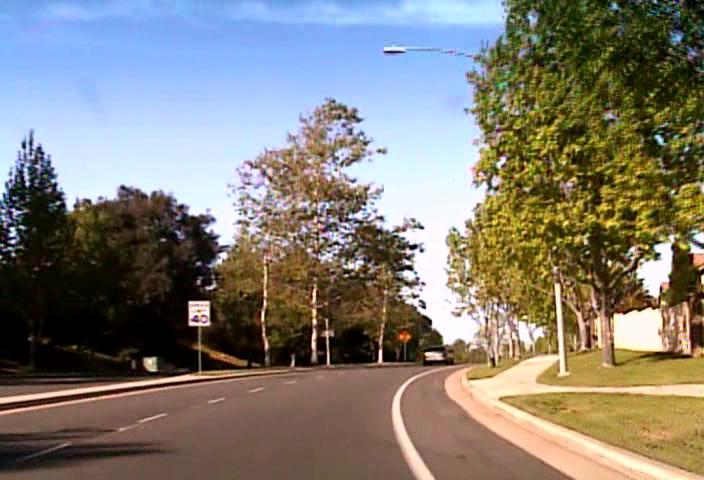speedLimit40: (187, 300, 210, 326)
